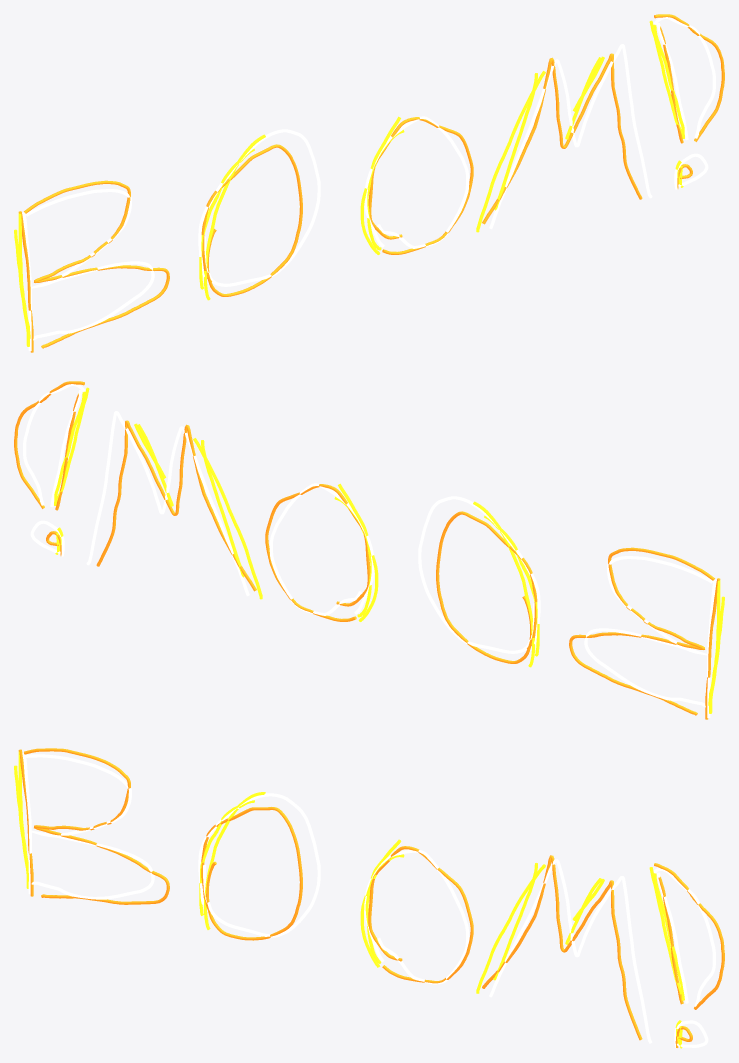
File: boom-godot.glb
The picture shows the model from 3 angles, top to bottom: view 1: azimuth 30°, elevation 25°; view 2: azimuth 150°, elevation 25°; view 3: azimuth 330°, elevation 25°; orthographic projection.
Visible parts, largest first — view 1: BoomText; view 2: BoomText; view 3: BoomText.
Part boxes in pixels (x1,y1,x2,y2): BoomText: (14, 14, 724, 352); BoomText: (14, 381, 724, 719); BoomText: (14, 748, 724, 1048).
Size of the model in its own units: 9.77 by 2.43 by 0.04.
